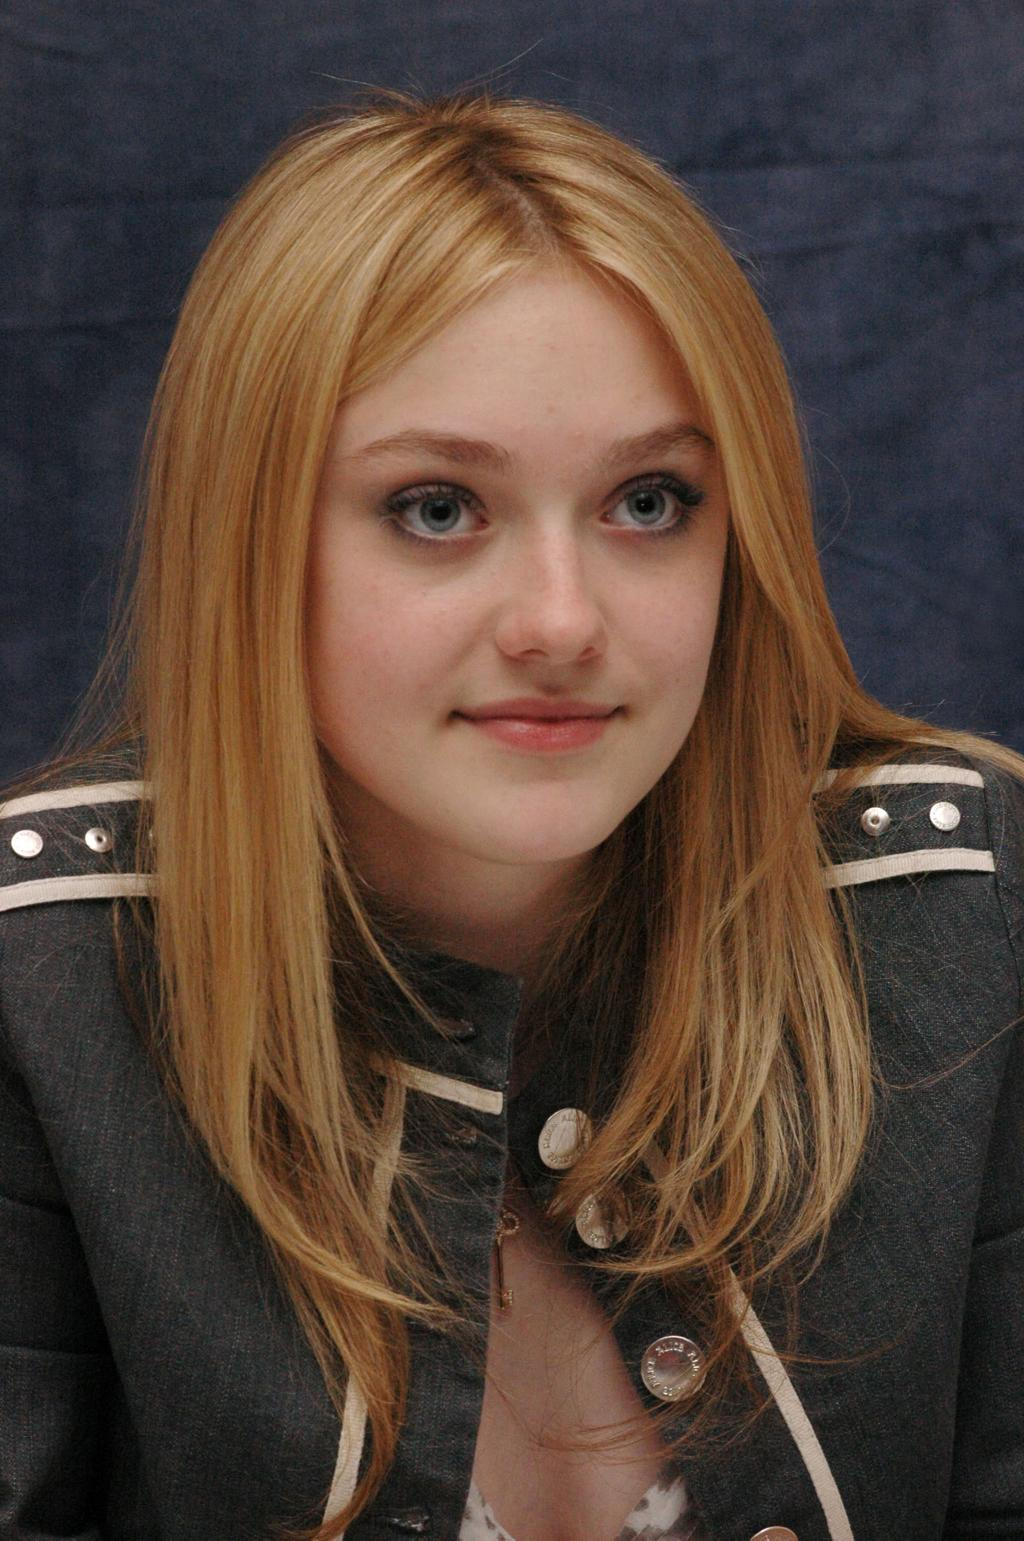face: (304, 265, 729, 858)
